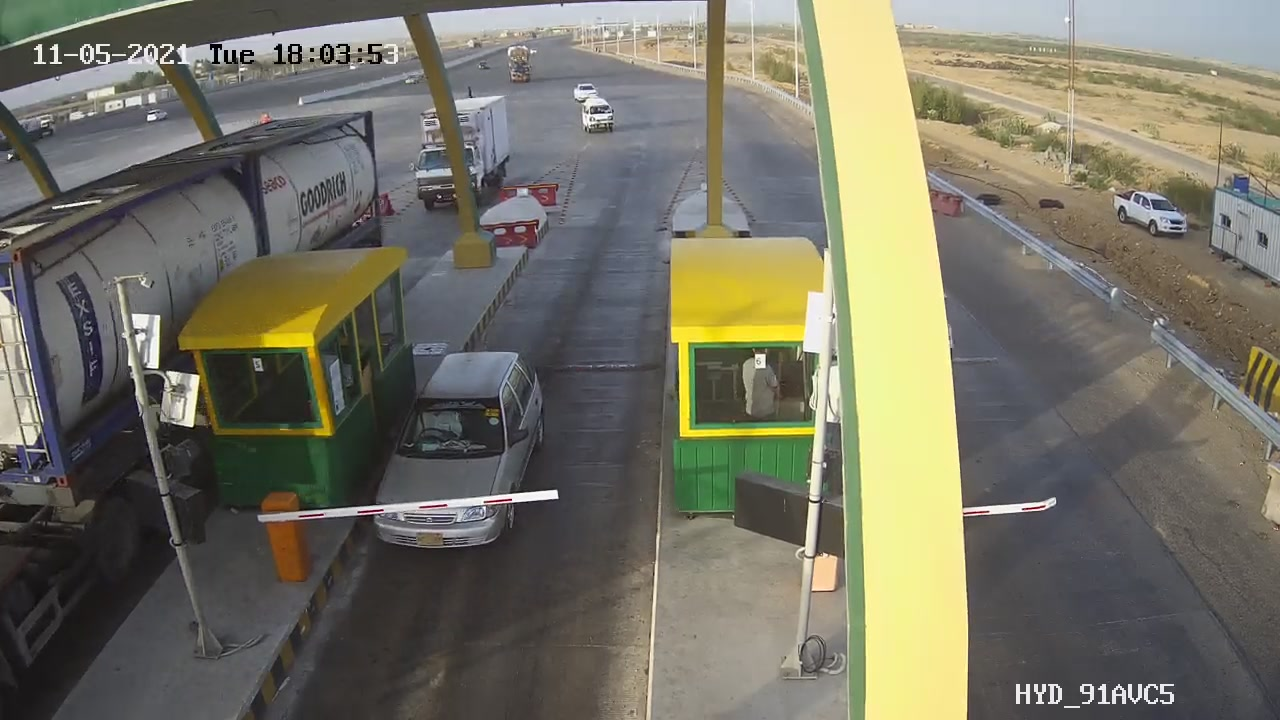F1: (357, 335, 569, 565)
